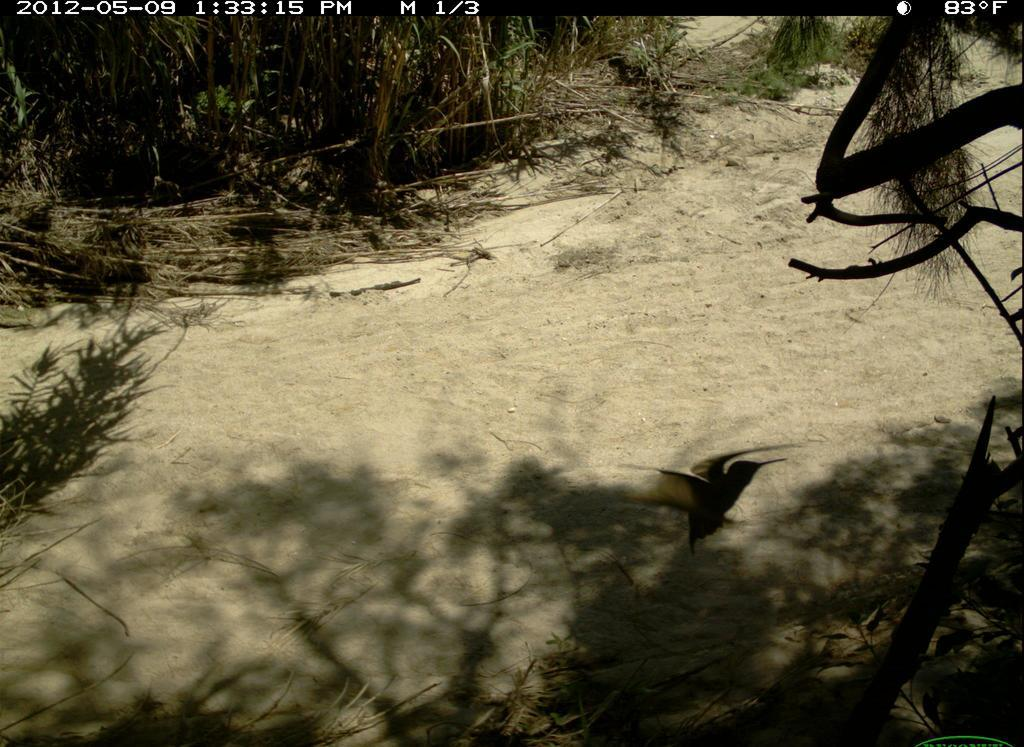bird: (607, 434, 803, 565)
